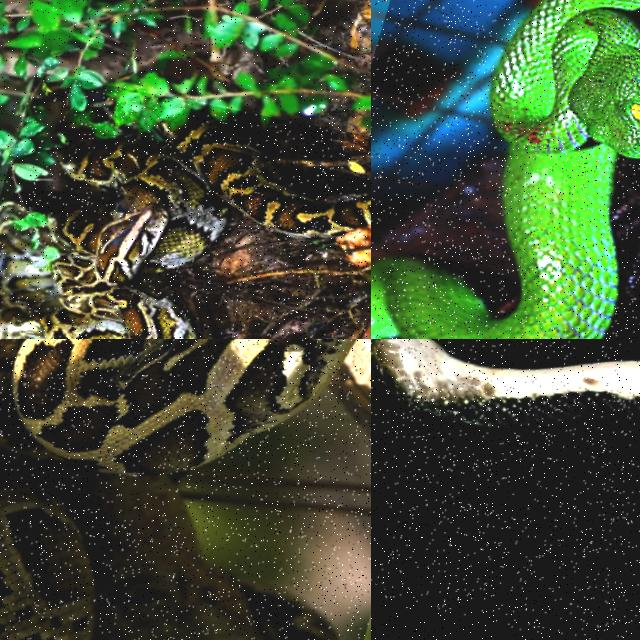Naja siamensis: (371, 339, 639, 427)
Python bivittatus: (0, 339, 355, 639), (0, 118, 370, 338)
Trimeresurus macrops: (371, 0, 639, 338)
snake: (0, 339, 355, 639), (371, 0, 639, 338), (0, 118, 370, 338), (371, 339, 639, 427)
